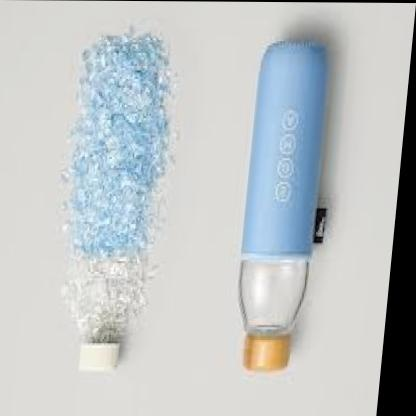trash: (64, 33, 173, 370), (240, 41, 326, 369)
